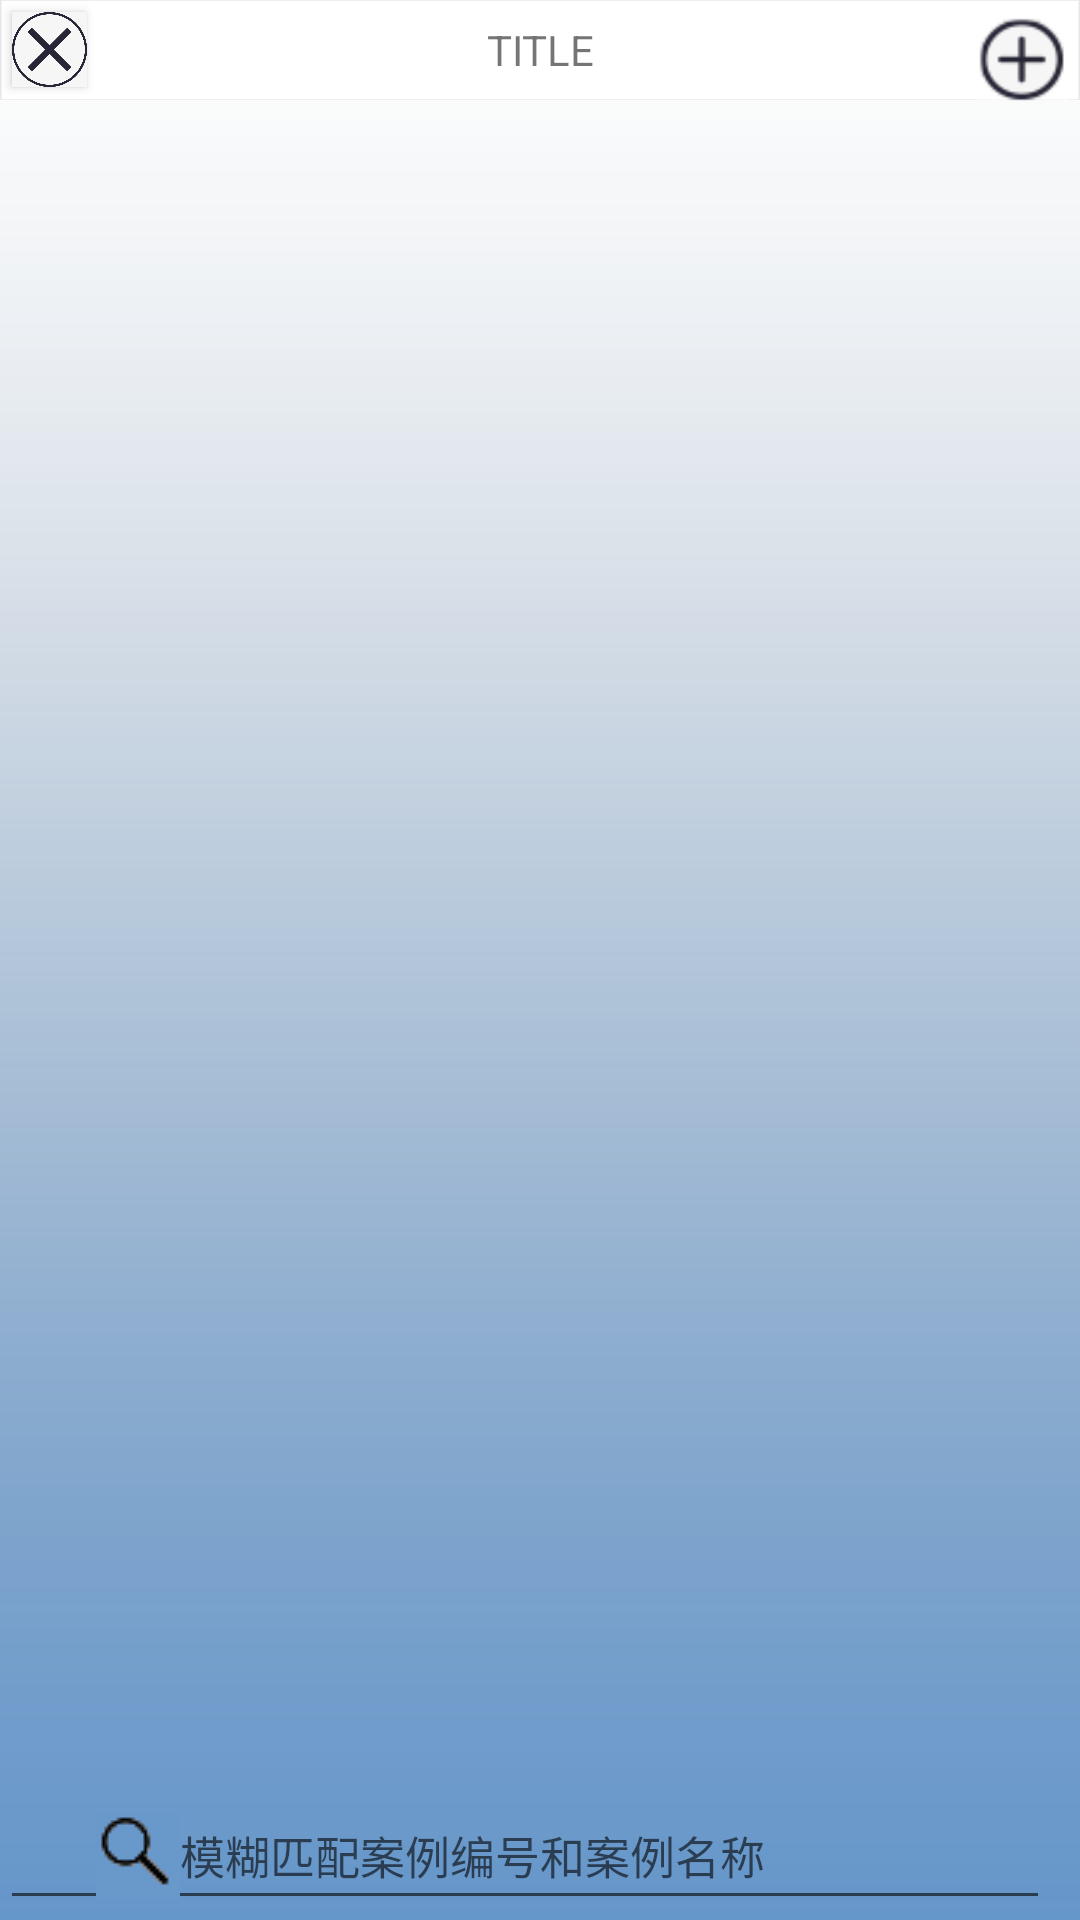

Icon click points for this 1080 x 1920 phone screenshot, format [x,y]:
add: [1022,60]
del: [49,49]
